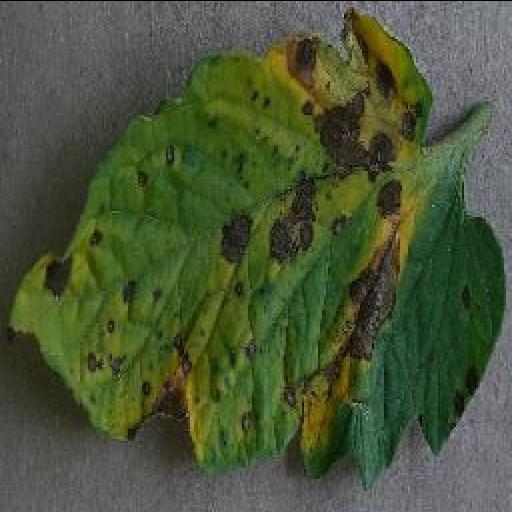disease_tomato: (11, 5, 505, 481)
